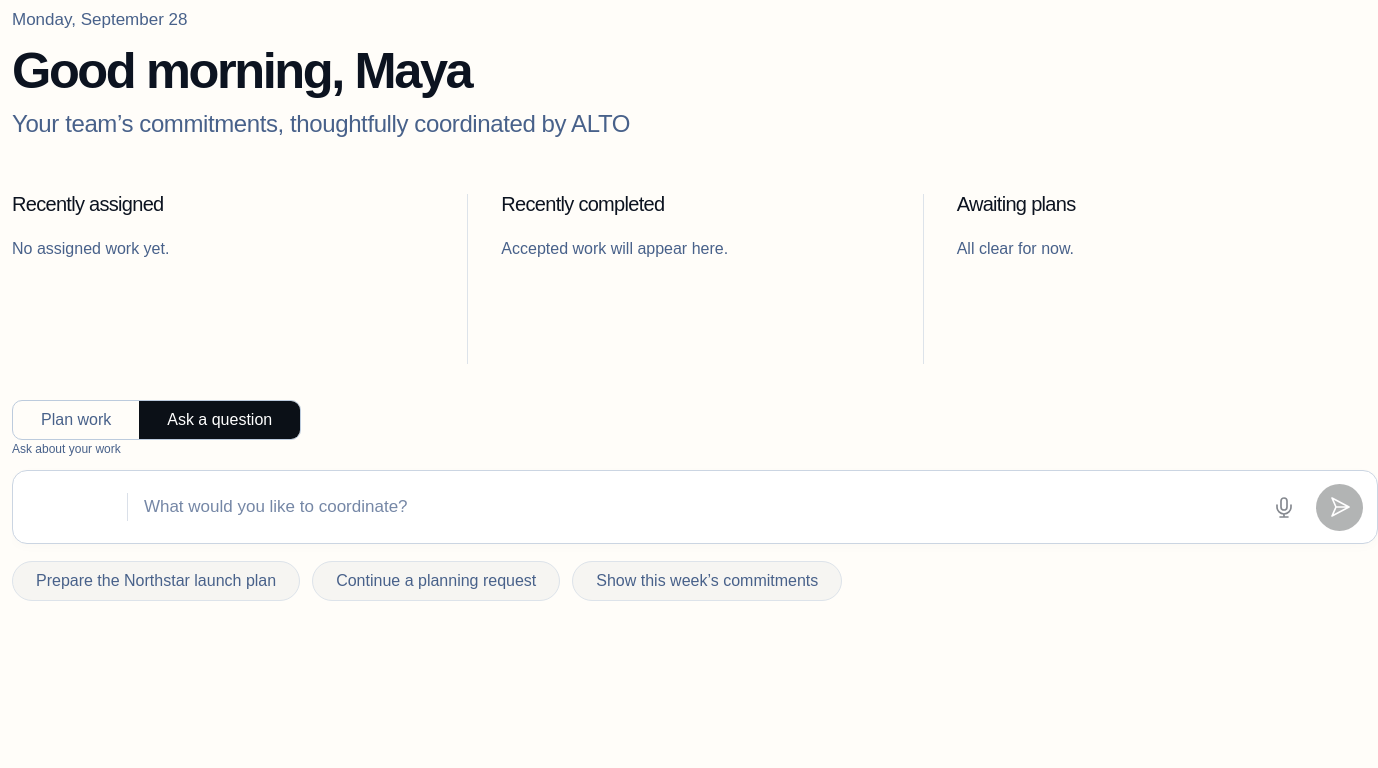
Test: simple Home planning and work flow › retains guided coordination when request creation fails
What coordinates should you click on to do the following:
click the button "Prepare the Northstar launch plan"
I would click on:
 (156, 581)
Its box is [12, 561, 300, 601].
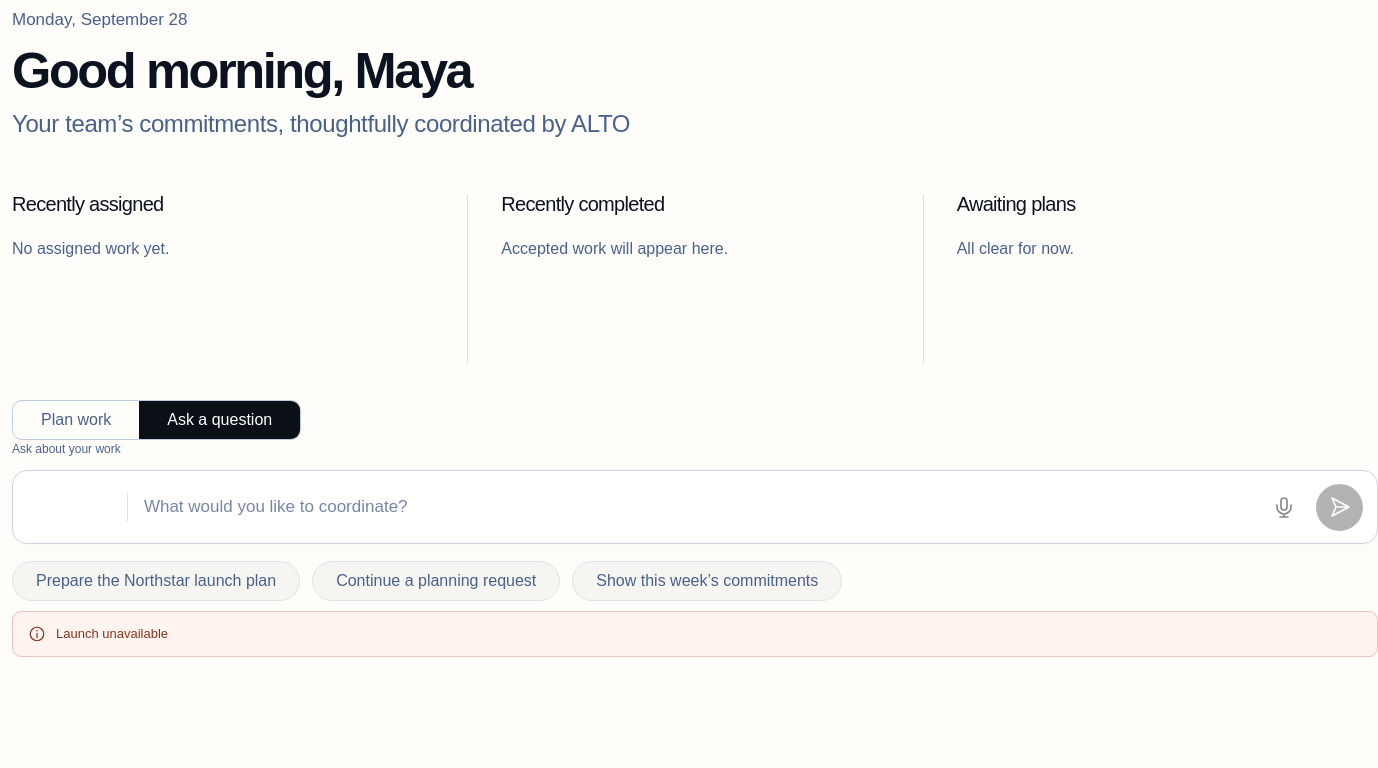
Expected: the text "Launch unavailable" is shown, [56, 624, 168, 644]
